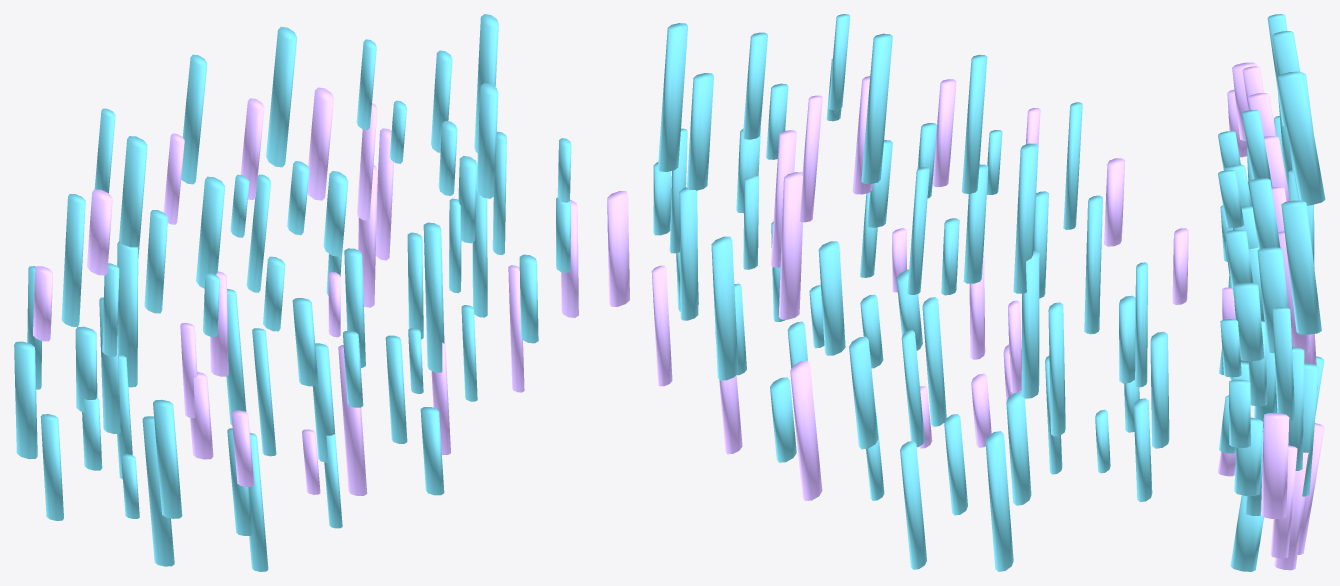
Rendered from coral-brush-blue-01.glb.
The picture shows the model from 3 angles, left to right: view 1: azimuth 30°, elevation 25°; view 2: azimuth 150°, elevation 25°; view 3: azimuth 270°, elevation 25°; orthographic projection. The views are drawn at different scales.
Visible parts, largest first — view 1: coral_brush_blue_01_stalk_53, coral_brush_blue_01_stalk_26, coral_brush_blue_01_stalk_17, coral_brush_blue_01_stalk_59, coral_brush_blue_01_stalk_41, coral_brush_blue_01_stalk_43, coral_brush_blue_01_stalk_35, coral_brush_blue_01_stalk_62, coral_brush_blue_01_stalk_61, coral_brush_blue_01_stalk_32, coral_brush_blue_01_stalk_14, coral_brush_blue_01_stalk_50 (+59 smaller); view 2: coral_brush_blue_01_stalk_71, coral_brush_blue_01_stalk_26, coral_brush_blue_01_stalk_08, coral_brush_blue_01_stalk_53, coral_brush_blue_01_stalk_44, coral_brush_blue_01_stalk_62, coral_brush_blue_01_stalk_35, coral_brush_blue_01_stalk_68, coral_brush_blue_01_stalk_50, coral_brush_blue_01_stalk_17, coral_brush_blue_01_stalk_34, coral_brush_blue_01_stalk_05 (+50 smaller); view 3: coral_brush_blue_01_stalk_53, coral_brush_blue_01_stalk_71, coral_brush_blue_01_stalk_68, coral_brush_blue_01_stalk_42, coral_brush_blue_01_stalk_50, coral_brush_blue_01_stalk_29, coral_brush_blue_01_stalk_47, coral_brush_blue_01_stalk_65, coral_brush_blue_01_stalk_58, coral_brush_blue_01_stalk_55, coral_brush_blue_01_stalk_26, coral_brush_blue_01_stalk_34 (+34 smaller).
Part boxes in pixels (left/top/right/bottom): coral_brush_blue_01_stalk_53: left=266, top=27, right=297, bottom=167; coral_brush_blue_01_stalk_26: left=423, top=222, right=444, bottom=372; coral_brush_blue_01_stalk_17: left=117, top=241, right=138, bottom=387; coral_brush_blue_01_stalk_59: left=14, top=341, right=37, bottom=459; coral_brush_blue_01_stalk_41: left=153, top=399, right=182, bottom=518; coral_brush_blue_01_stalk_43: left=61, top=194, right=85, bottom=326; coral_brush_blue_01_stalk_35: left=117, top=136, right=147, bottom=265; coral_brush_blue_01_stalk_62: left=142, top=416, right=174, bottom=566; coral_brush_blue_01_stalk_61: left=181, top=54, right=207, bottom=184; coral_brush_blue_01_stalk_32: left=307, top=87, right=333, bottom=200; coral_brush_blue_01_stalk_14: left=196, top=176, right=225, bottom=288; coral_brush_blue_01_stalk_50: left=476, top=83, right=498, bottom=198; coral_brush_blue_01_stalk_71: left=658, top=23, right=687, bottom=171; coral_brush_blue_01_stalk_26: left=711, top=236, right=738, bottom=380; coral_brush_blue_01_stalk_08: left=778, top=172, right=802, bottom=319; coral_brush_blue_01_stalk_53: left=861, top=33, right=892, bottom=183; coral_brush_blue_01_stalk_44: left=790, top=360, right=822, bottom=500; coral_brush_blue_01_stalk_62: left=985, top=431, right=1013, bottom=571; coral_brush_blue_01_stalk_35: left=1013, top=143, right=1038, bottom=293; coral_brush_blue_01_stalk_68: left=607, top=191, right=629, bottom=306; coral_brush_blue_01_stalk_50: left=687, top=73, right=713, bottom=190; coral_brush_blue_01_stalk_17: left=1021, top=251, right=1039, bottom=398; coral_brush_blue_01_stalk_34: left=679, top=187, right=698, bottom=320; coral_brush_blue_01_stalk_05: left=818, top=241, right=845, bottom=355; coral_brush_blue_01_stalk_53: left=1277, top=71, right=1325, bottom=204; coral_brush_blue_01_stalk_71: left=1281, top=200, right=1321, bottom=334; coral_brush_blue_01_stalk_68: left=1261, top=413, right=1289, bottom=518; coral_brush_blue_01_stalk_42: left=1272, top=307, right=1295, bottom=420; coral_brush_blue_01_stalk_50: left=1257, top=247, right=1292, bottom=353; coral_brush_blue_01_stalk_29: left=1233, top=282, right=1264, bottom=361; coral_brush_blue_01_stalk_47: left=1234, top=417, right=1263, bottom=495; coral_brush_blue_01_stalk_65: left=1230, top=495, right=1263, bottom=571; coral_brush_blue_01_stalk_58: left=1249, top=178, right=1280, bottom=249; coral_brush_blue_01_stalk_55: left=1229, top=379, right=1250, bottom=447; coral_brush_blue_01_stalk_26: left=1302, top=363, right=1318, bottom=496; coral_brush_blue_01_stalk_34: left=1288, top=347, right=1304, bottom=470.
Size of the model in its own units: 1.88 by 1.7 by 0.337.
